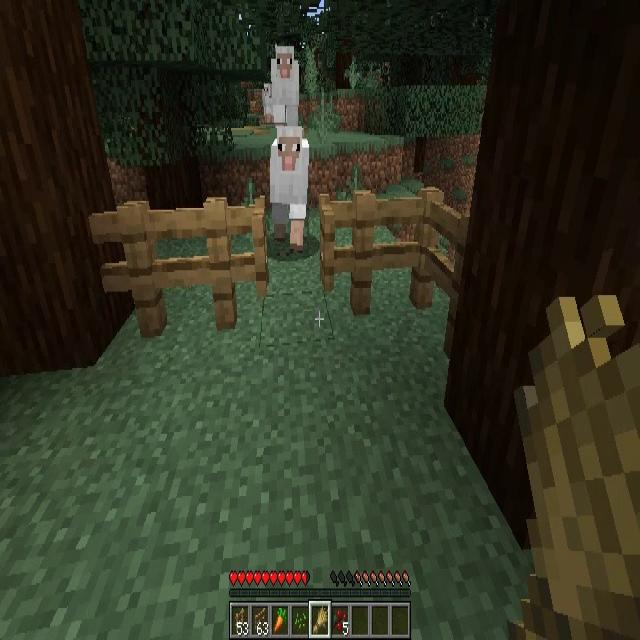sheep: (270, 128, 309, 253), (273, 46, 300, 124), (262, 83, 273, 121)
